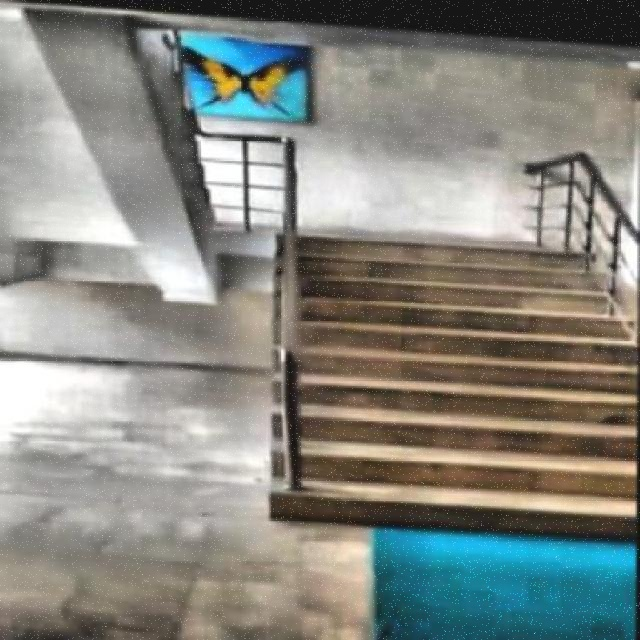stair: (266, 228, 637, 537)
